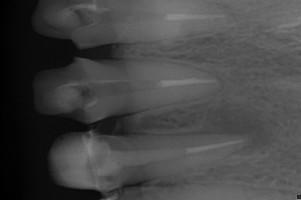Furcation Involvement: (200, 110, 275, 155)
